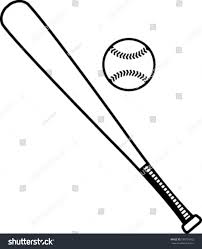baseball bat: (1, 1, 202, 234)
